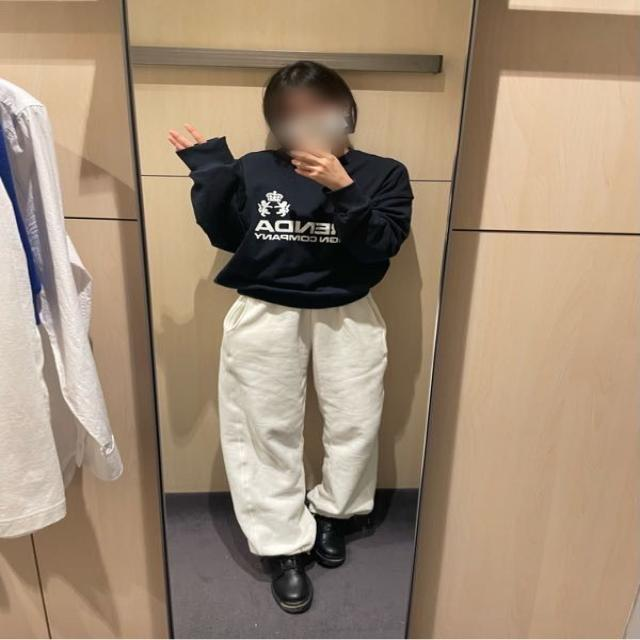cottonpants: (216, 292, 389, 557)
mtm: (180, 141, 414, 310)
